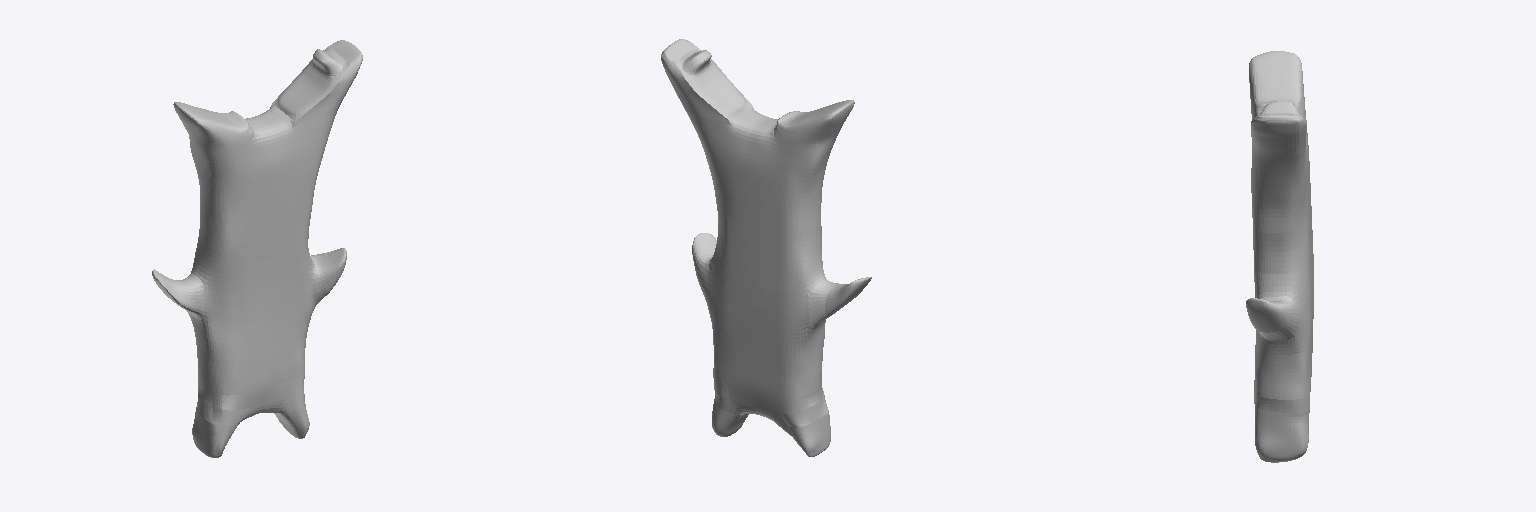
Rendered from korok25.obj.
3 renders of one model, left to right at view 1: azimuth 30°, elevation 25°; view 2: azimuth 150°, elevation 25°; view 3: azimuth 270°, elevation 25°, orthographic.
Visible parts, largest first — view 1: Plane; view 2: Plane; view 3: Plane.
Boxes of the visible parts, box(x1,y1,x2,y2) form: Plane: box(152, 40, 362, 457); Plane: box(661, 39, 871, 456); Plane: box(1246, 51, 1313, 462).
Bounding box in the file's own units: 1.01 × 1.82 × 0.3003.